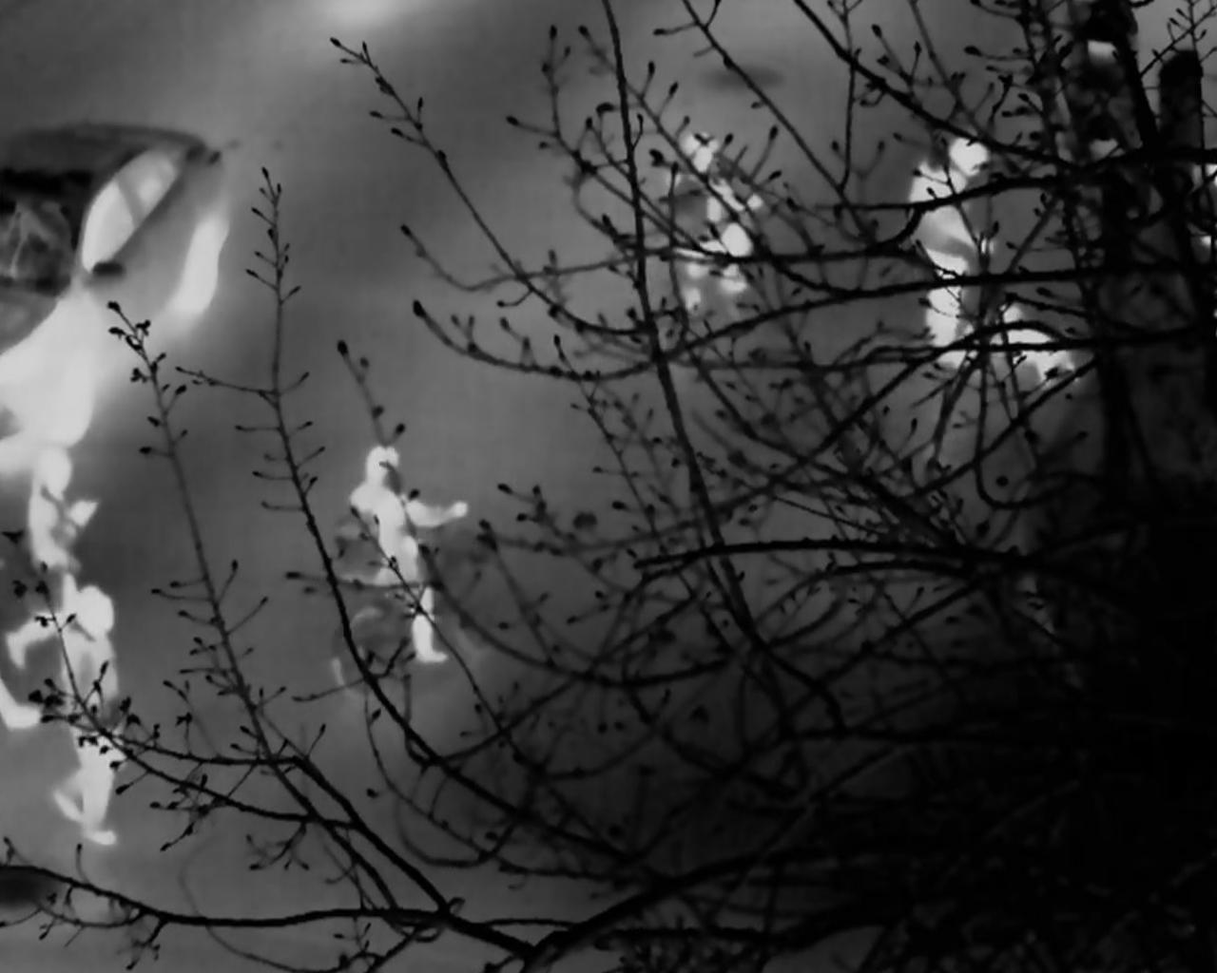person: (355, 450, 473, 664), (52, 589, 146, 826), (897, 140, 996, 363), (666, 128, 762, 319), (12, 443, 108, 618)
